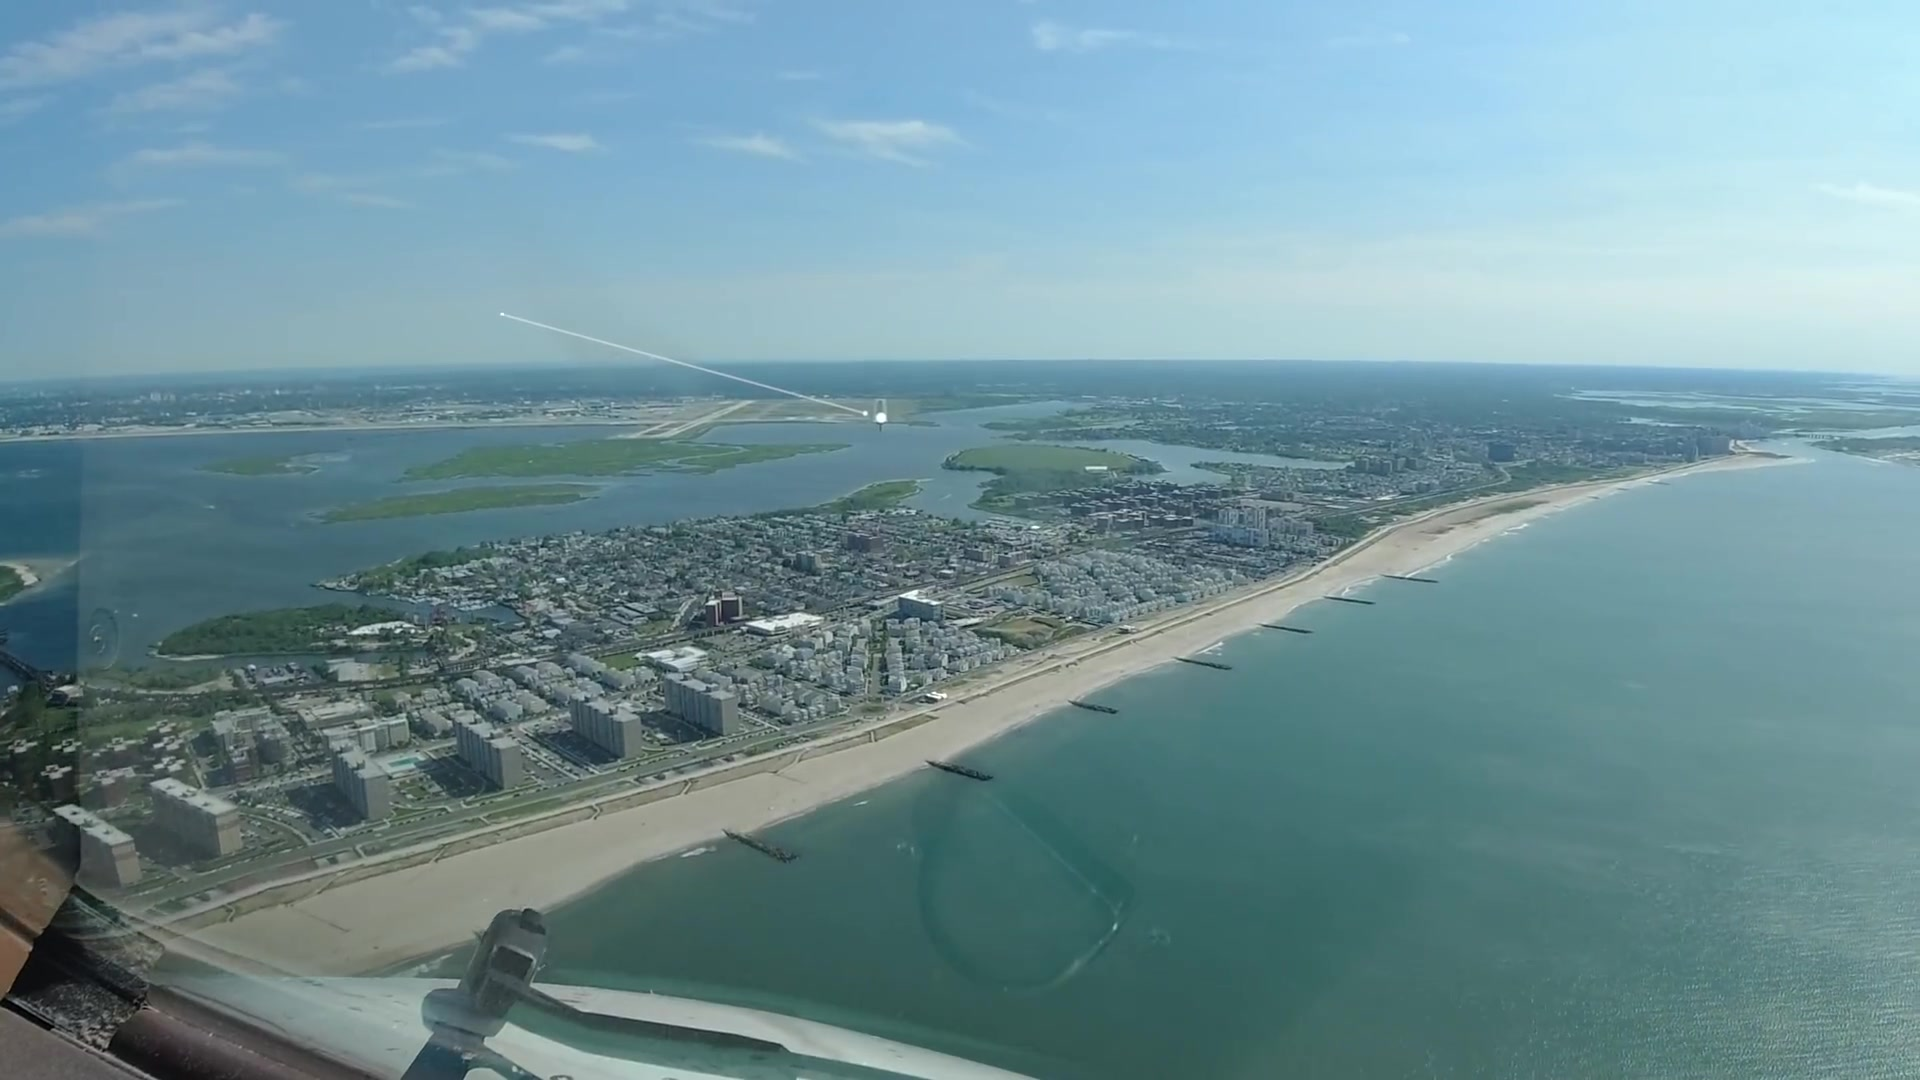runway: (655, 398, 754, 439), (872, 396, 887, 425)
